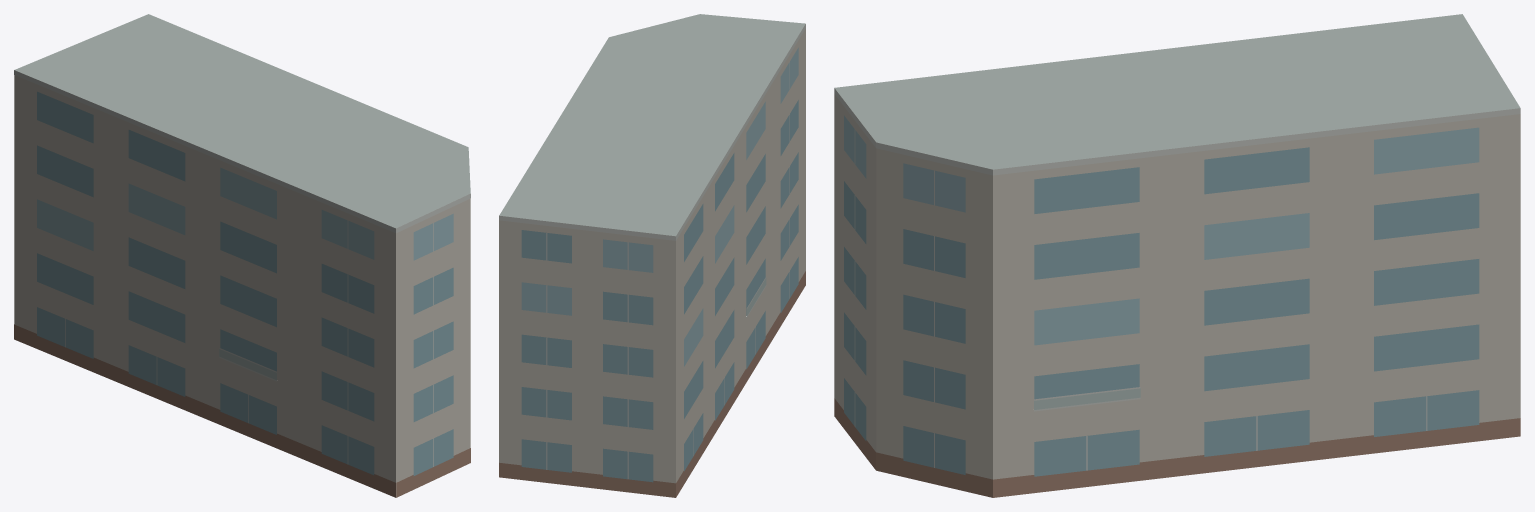
File: survey-upis-33012013.glb
The picture shows the model from 3 angles, left to right: view 1: azimuth 30°, elevation 25°; view 2: azimuth 150°, elevation 25°; view 3: azimuth 270°, elevation 25°; orthographic projection. The views are drawn at different scales.
Parts seen in each view (by area): view 1: survey-upis-33012013.tmp; view 2: survey-upis-33012013.tmp; view 3: survey-upis-33012013.tmp.
Part boxes in pixels (x1=…): survey-upis-33012013.tmp: x1=14, y1=14, x2=470, y2=497; survey-upis-33012013.tmp: x1=499, y1=14, x2=805, y2=497; survey-upis-33012013.tmp: x1=834, y1=14, x2=1520, y2=497.
Bounding box in the file's own units: 13.84 × 13.6 × 25.79.
